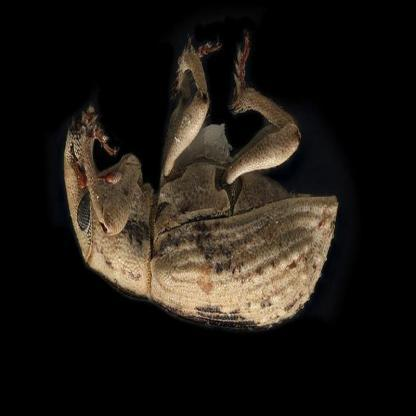rice-bug: (64, 63, 342, 327)
